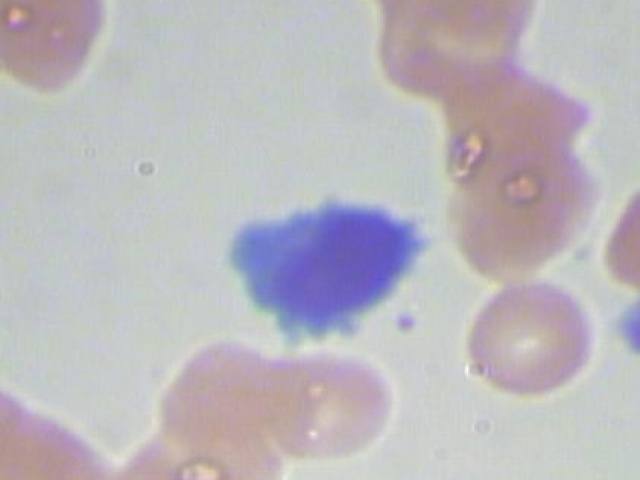Platelets: (599, 289, 640, 379)
RBC: (442, 274, 607, 407), (251, 333, 416, 466), (0, 0, 124, 111), (590, 168, 640, 301)
WBC: (216, 189, 447, 362)
